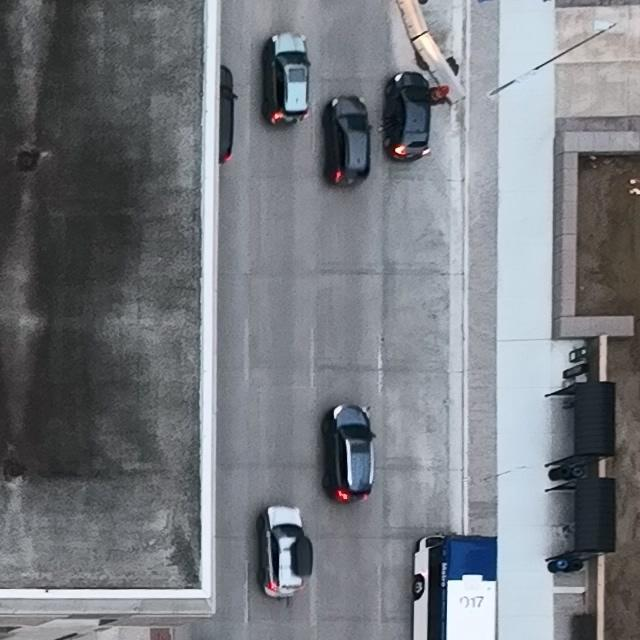car: (409, 533, 498, 640), (254, 505, 314, 599), (321, 404, 376, 505), (262, 31, 311, 129), (323, 94, 372, 189), (385, 72, 433, 163), (218, 65, 238, 162)
